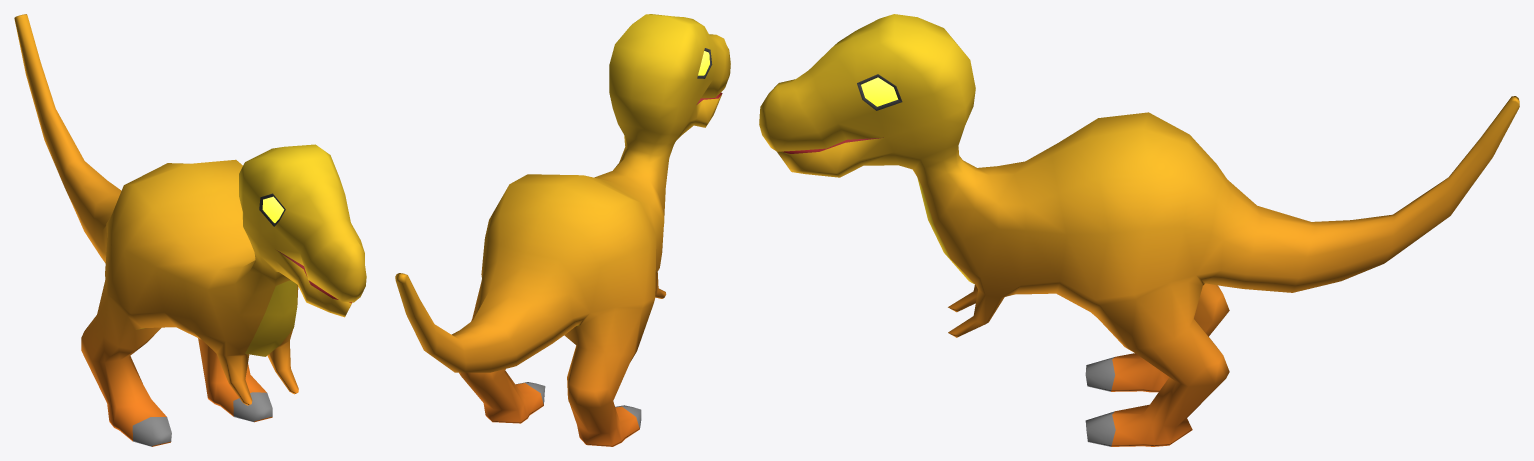
The model's file is player_deinonychus.glb.
The picture shows the model from 3 angles, left to right: view 1: azimuth 30°, elevation 25°; view 2: azimuth 150°, elevation 25°; view 3: azimuth 270°, elevation 25°; orthographic projection. The views are drawn at different scales.
Visible parts, largest first — view 1: Cube.002; view 2: Cube.002; view 3: Cube.002.
Part boxes in pixels (box(x1,y1,x2,y2)): Cube.002: box(14, 14, 366, 446); Cube.002: box(395, 14, 730, 446); Cube.002: box(759, 14, 1519, 446).
Bounding box in the file's own units: 2.01 × 3.94 × 7.03.
Materials: 1 (1 with a texture image).
